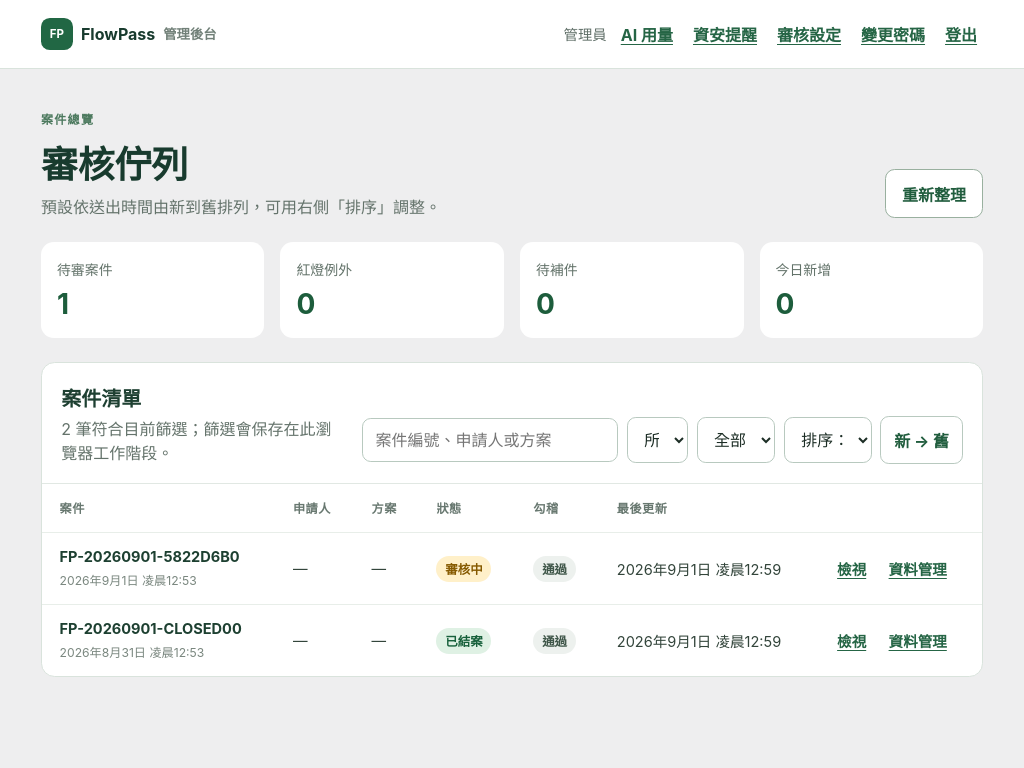
FlowPass admin review actions › shows only legal actions for the selected case state
Click the button "檢視" in the row of "FP-20260901-5822D6B0": click(852, 569) left=831, top=557, right=872, bottom=580
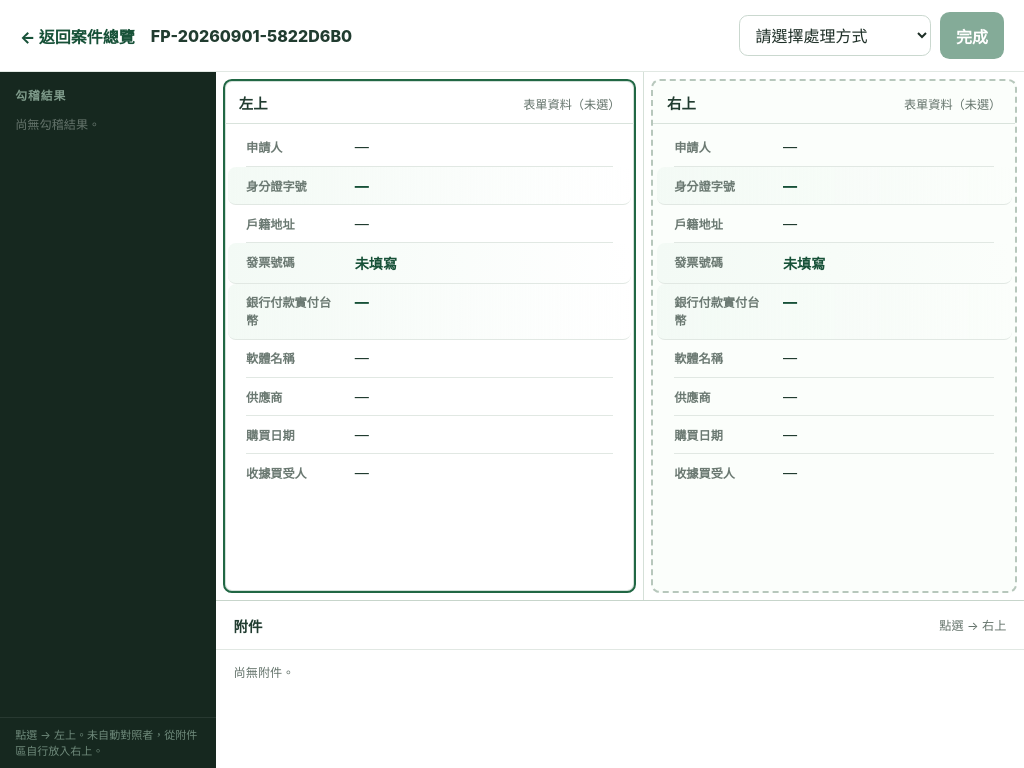
Expected: the dropdown named "審核動作" is shown, left=739, top=15, right=931, bottom=56
Click the button "← 返回案件總覽": click(77, 36) left=20, top=19, right=135, bottom=52
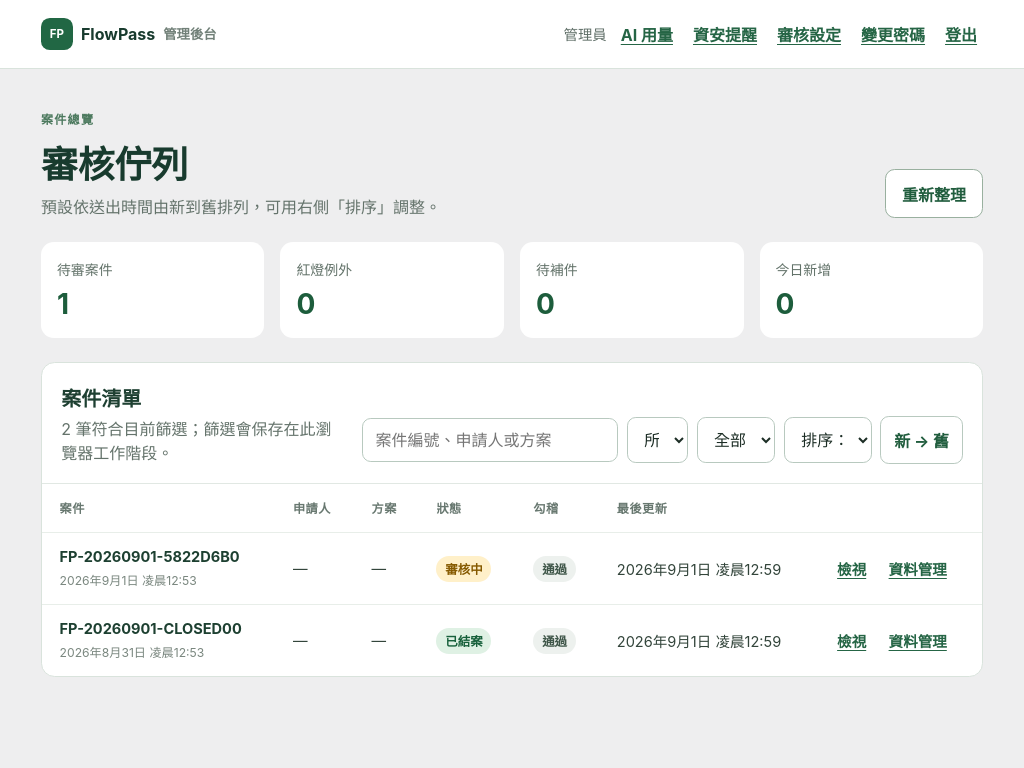
Click the button "檢視" in the row of "FP-20260901-CLOSED00": click(852, 641) left=831, top=629, right=872, bottom=652
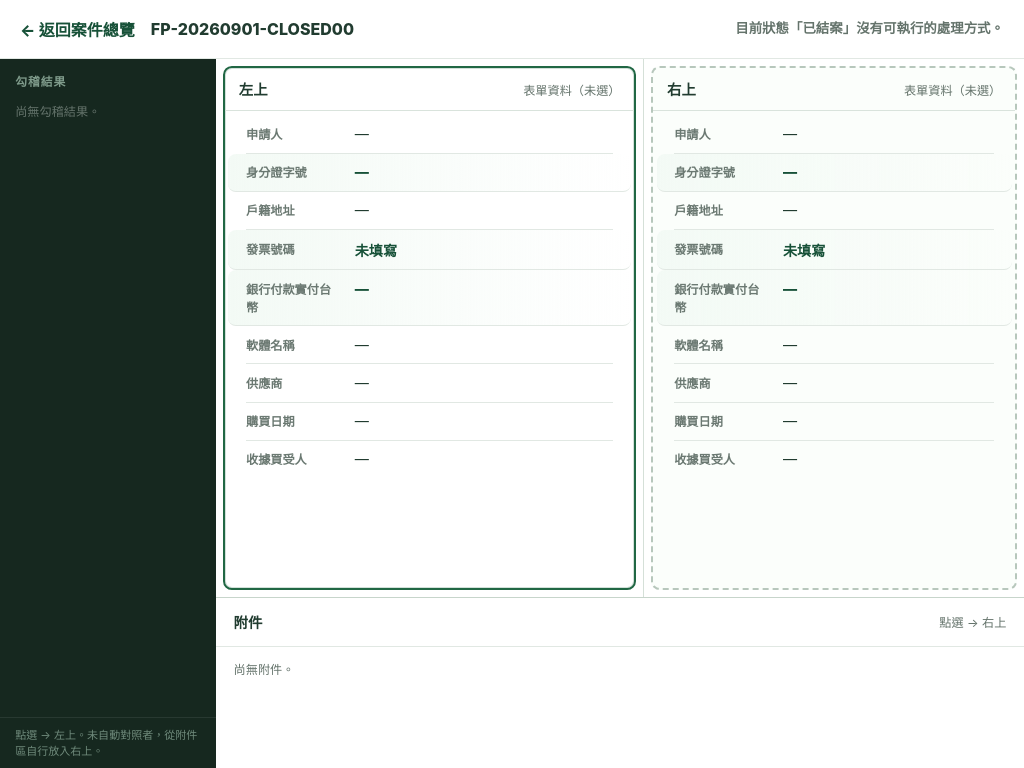
Expected: the dropdown labelled "審核動作" is not shown
Expected: the text "目前狀態「已結案」沒有可執行的處理方式。" is shown, left=735, top=19, right=1004, bottom=38
Expected: the button "← 返回案件總覽" is shown, left=20, top=12, right=135, bottom=46
